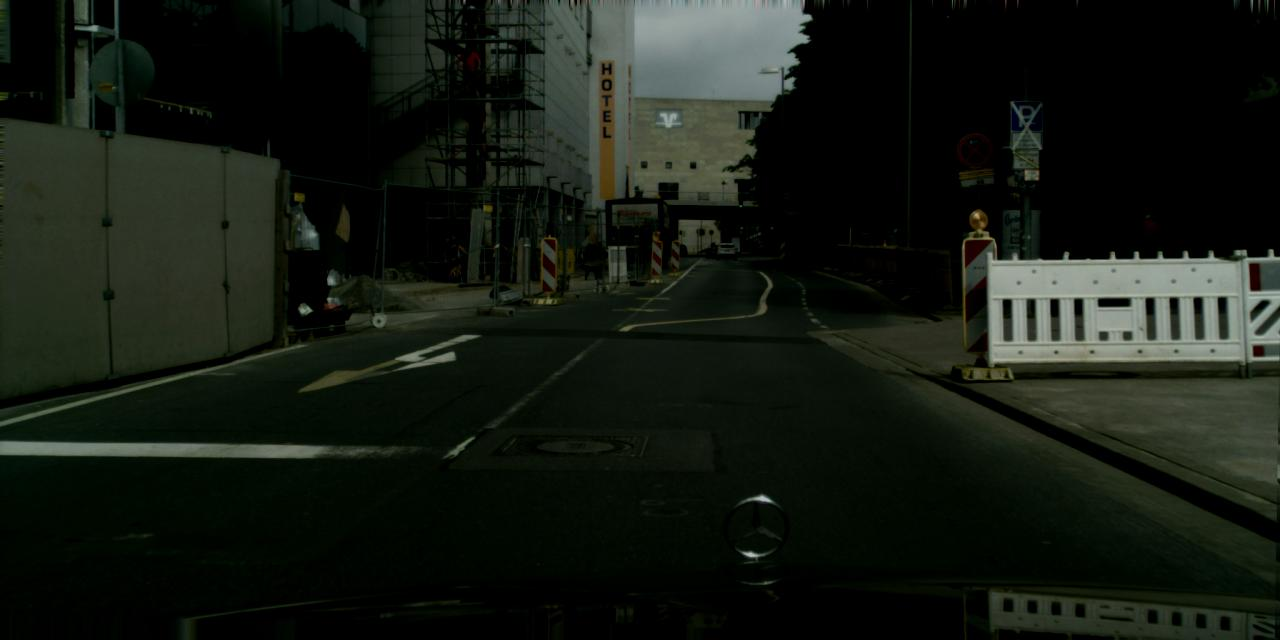ped: (1136, 214, 1161, 275), (465, 104, 486, 158), (459, 46, 479, 98), (710, 242, 716, 254), (750, 242, 754, 256), (757, 240, 759, 250)
